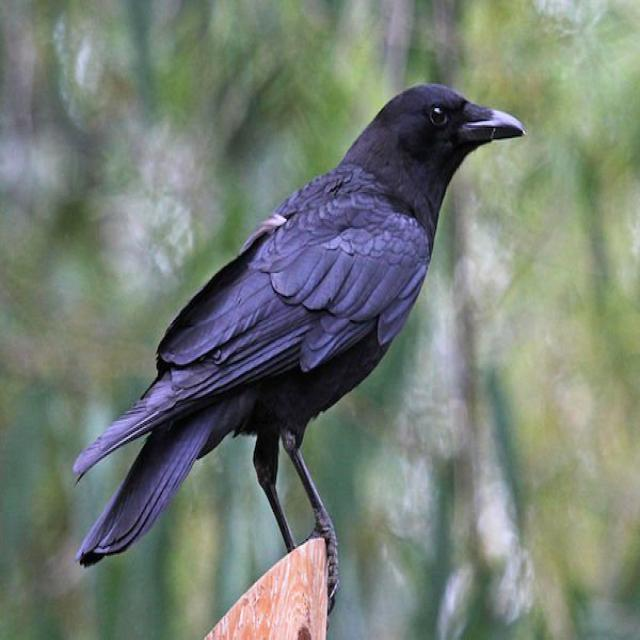crow: (74, 84, 524, 610)
